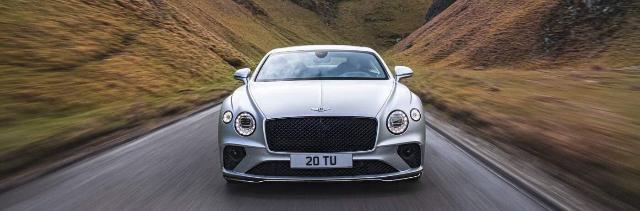bentley: (218, 44, 426, 184)
